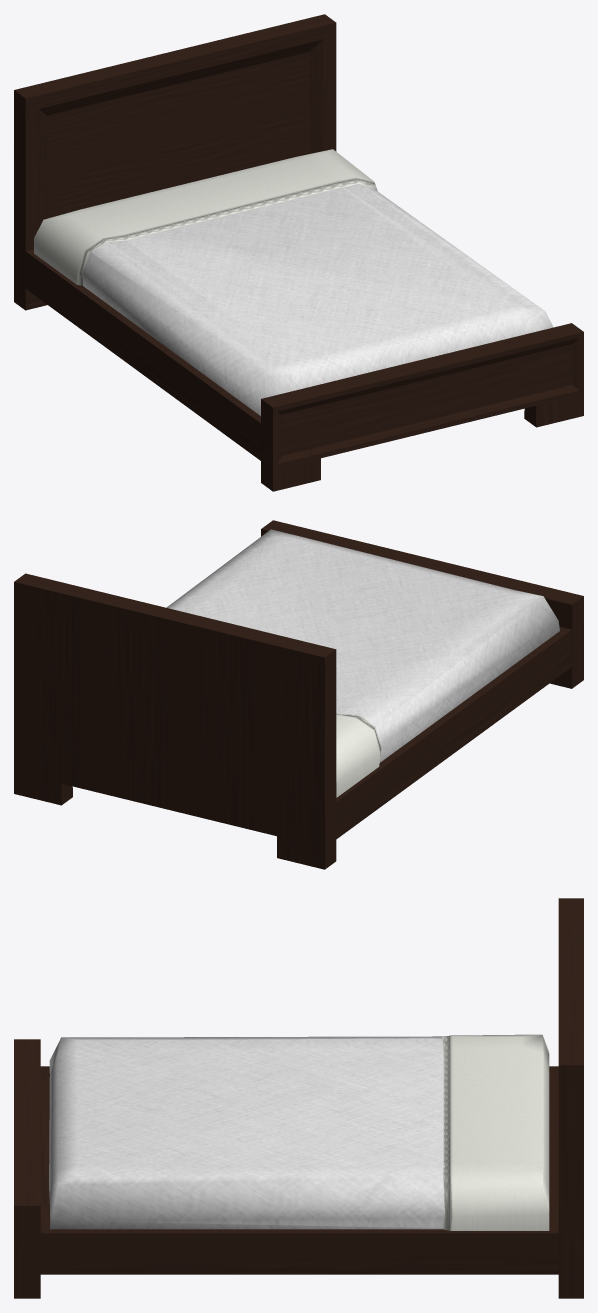
File: Bed_P.FBX
The picture shows the model from 3 angles, top to bottom: view 1: azimuth 30°, elevation 25°; view 2: azimuth 150°, elevation 25°; view 3: azimuth 270°, elevation 25°; orthographic projection. The views are drawn at different scales.
Visible parts, largest first — view 1: Bed; view 2: Bed; view 3: Bed.
Boxes of the visible parts, box(x1,y1,x2,y2) form: Bed: box(14, 14, 583, 491); Bed: box(14, 520, 583, 869); Bed: box(14, 898, 583, 1298).
Size of the model in its own units: 397 by 259 by 573.
